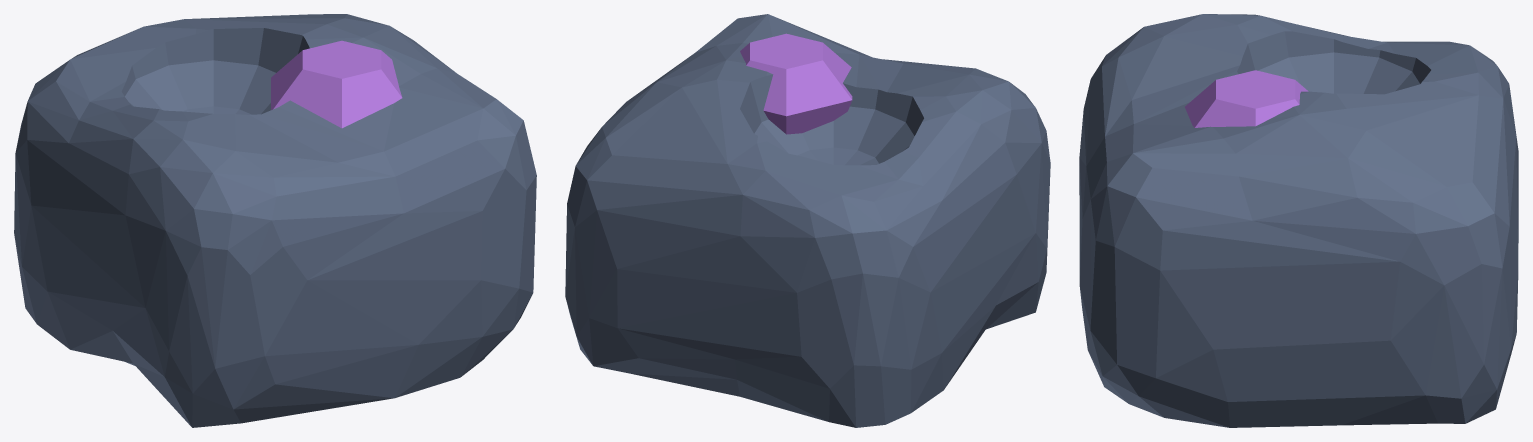
File: AFJ_Asteroid_1x1.fbx
3 views of the same model, side by side, from view 1: azimuth 30°, elevation 25°; view 2: azimuth 150°, elevation 25°; view 3: azimuth 270°, elevation 25° (orthographic). The views are drawn at different scales.
Visible parts, largest first — view 1: Rock_1x1, Crystal_1x1; view 2: Rock_1x1, Crystal_1x1; view 3: Rock_1x1, Crystal_1x1.
Boxes of the visible parts, x1,y1,x2,y2 form: Rock_1x1: [14, 14, 536, 427]; Crystal_1x1: [271, 40, 402, 128]; Rock_1x1: [565, 14, 1050, 427]; Crystal_1x1: [740, 33, 852, 134]; Rock_1x1: [1079, 14, 1518, 427]; Crystal_1x1: [1185, 70, 1308, 127].
Size of the model in its own units: 101 by 70 by 101.
